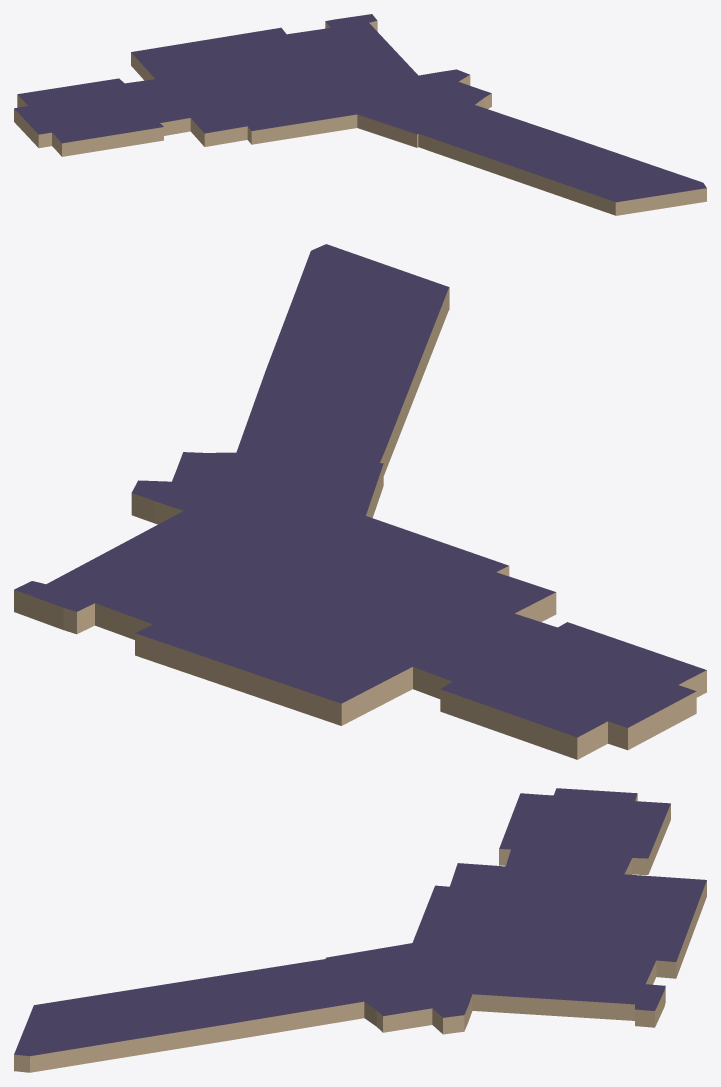
Rendered from b-093-day.glb.
The picture shows the model from 3 angles, top to bottom: view 1: azimuth 30°, elevation 25°; view 2: azimuth 150°, elevation 25°; view 3: azimuth 270°, elevation 25°; orthographic projection. The views are drawn at different scales.
Parts seen in each view (by area): view 1: campus/b-093-day-0; view 2: campus/b-093-day-0; view 3: campus/b-093-day-0.
Part boxes in pixels (x1=…): campus/b-093-day-0: x1=14, y1=14, x2=706, y2=215; campus/b-093-day-0: x1=14, y1=244, x2=706, y2=759; campus/b-093-day-0: x1=14, y1=788, x2=706, y2=1072.
Size of the model in its own units: 104 by 3 by 114.
